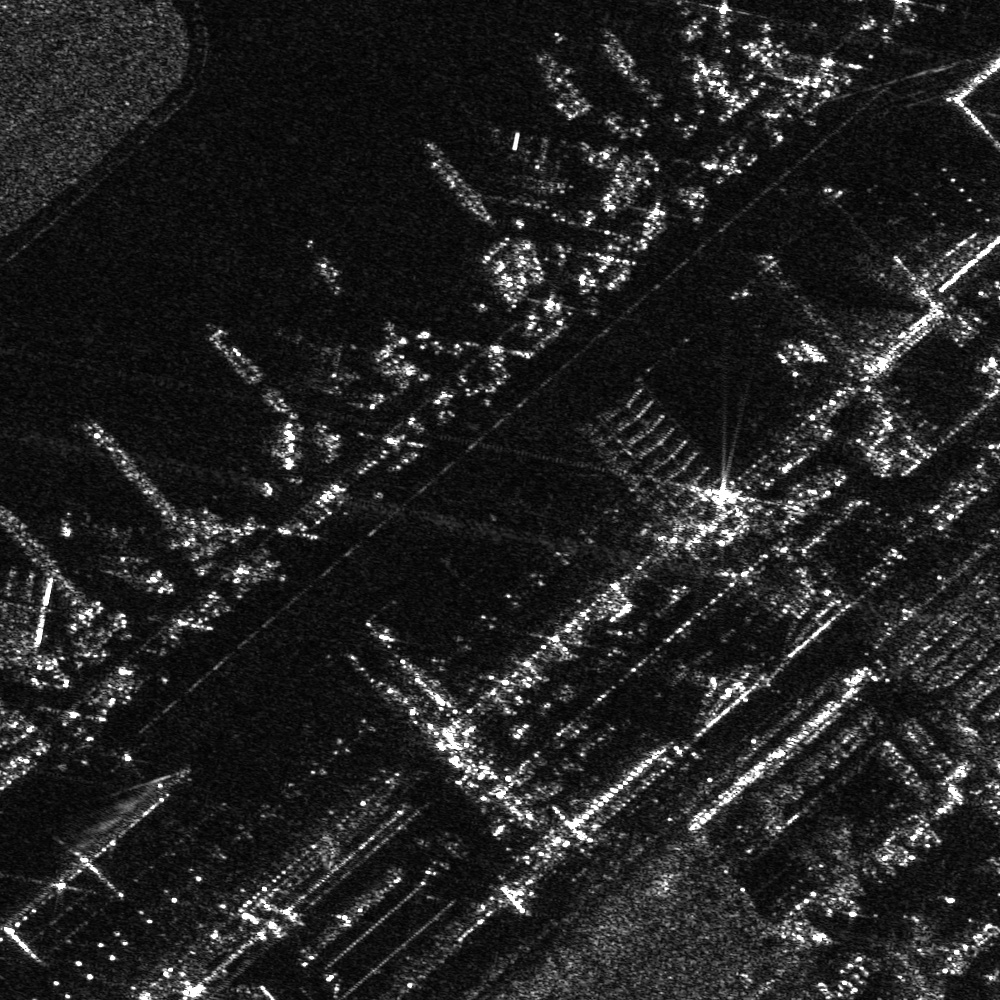Boeing787: (63, 506, 159, 583), (1, 562, 58, 673)
other: (488, 128, 568, 211), (279, 328, 360, 401)
